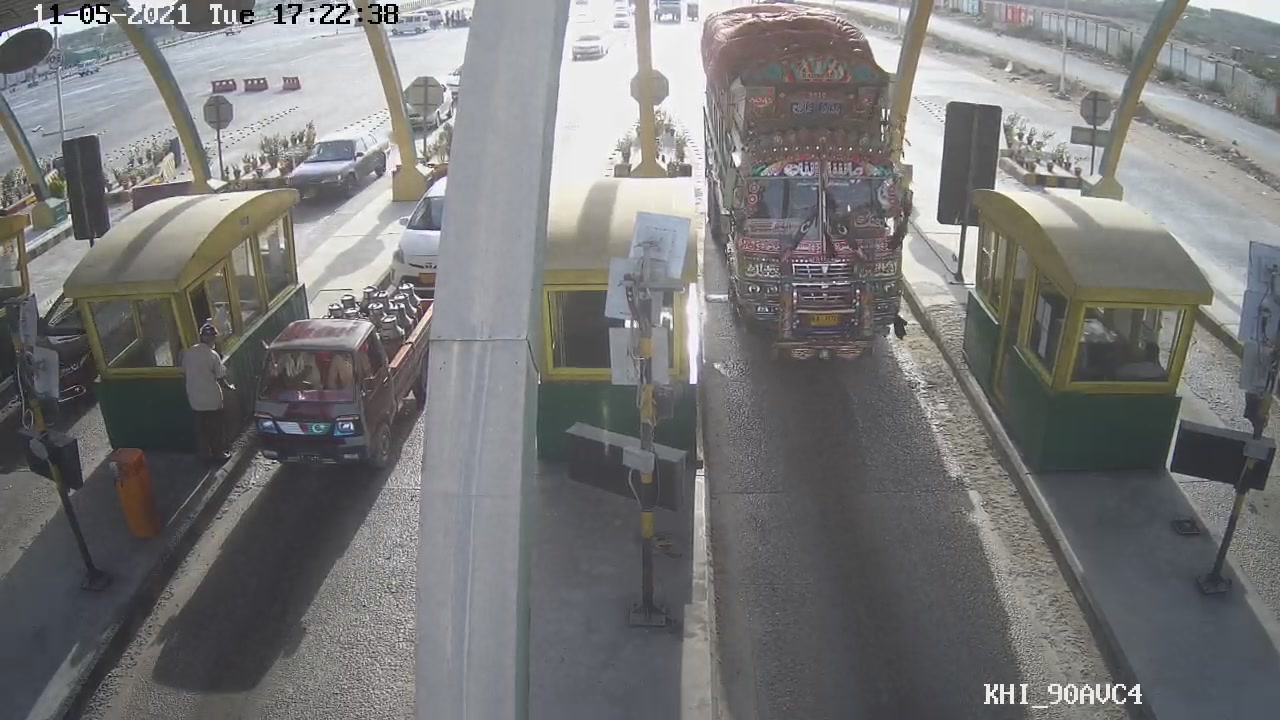F5: (694, 1, 921, 376)
